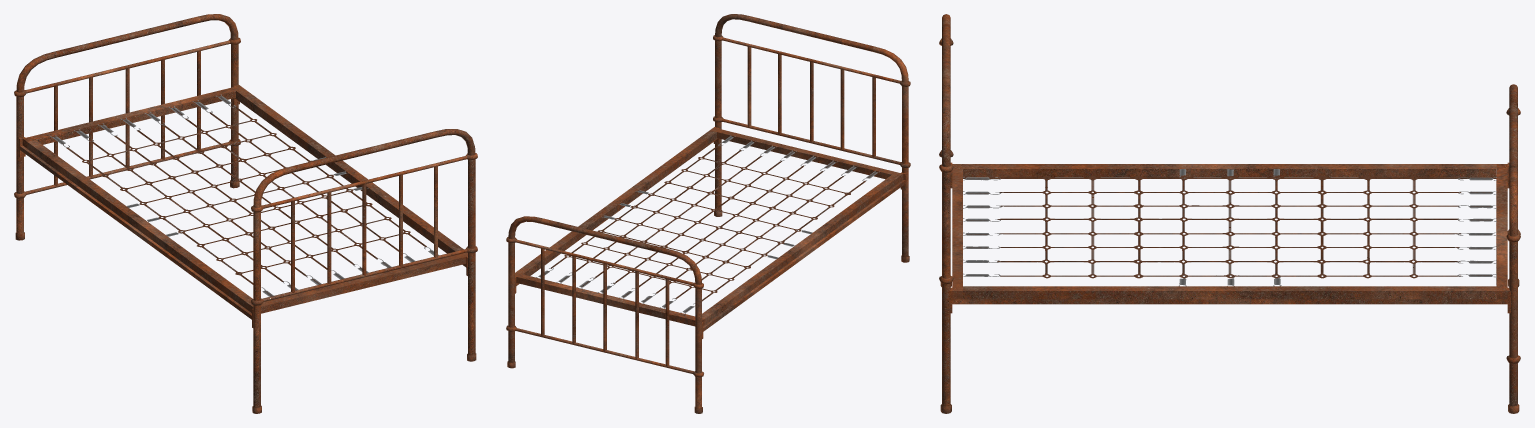
Rendered from InfirmaryBed.fbx.
3 views of the same model, side by side, from view 1: azimuth 30°, elevation 25°; view 2: azimuth 150°, elevation 25°; view 3: azimuth 270°, elevation 25° (orthographic). The views are drawn at different scales.
Parts seen in each view (by area): view 1: Bed:polySurface101, Bed:polySurface100; view 2: Bed:polySurface101, Bed:polySurface100; view 3: Bed:polySurface101, Bed:polySurface100.
Part boxes in pixels (bbox=[...]): Bed:polySurface101: bbox=[14, 14, 477, 413]; Bed:polySurface100: bbox=[36, 91, 439, 296]; Bed:polySurface101: bbox=[506, 14, 910, 413]; Bed:polySurface100: bbox=[523, 135, 879, 316]; Bed:polySurface101: bbox=[939, 14, 1520, 413]; Bed:polySurface100: bbox=[963, 169, 1496, 286].
Size of the model in its own units: 123 by 123 by 230.
